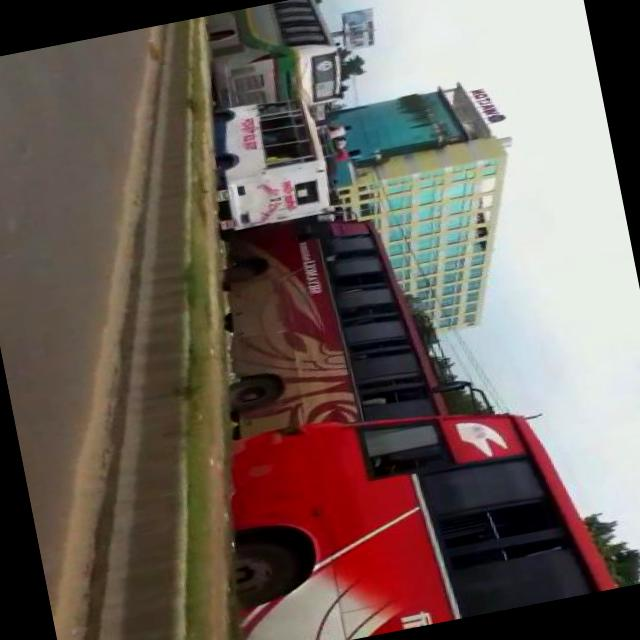bus: (201, 368, 629, 640), (196, 199, 450, 453), (196, 87, 340, 236), (203, 0, 351, 124)
